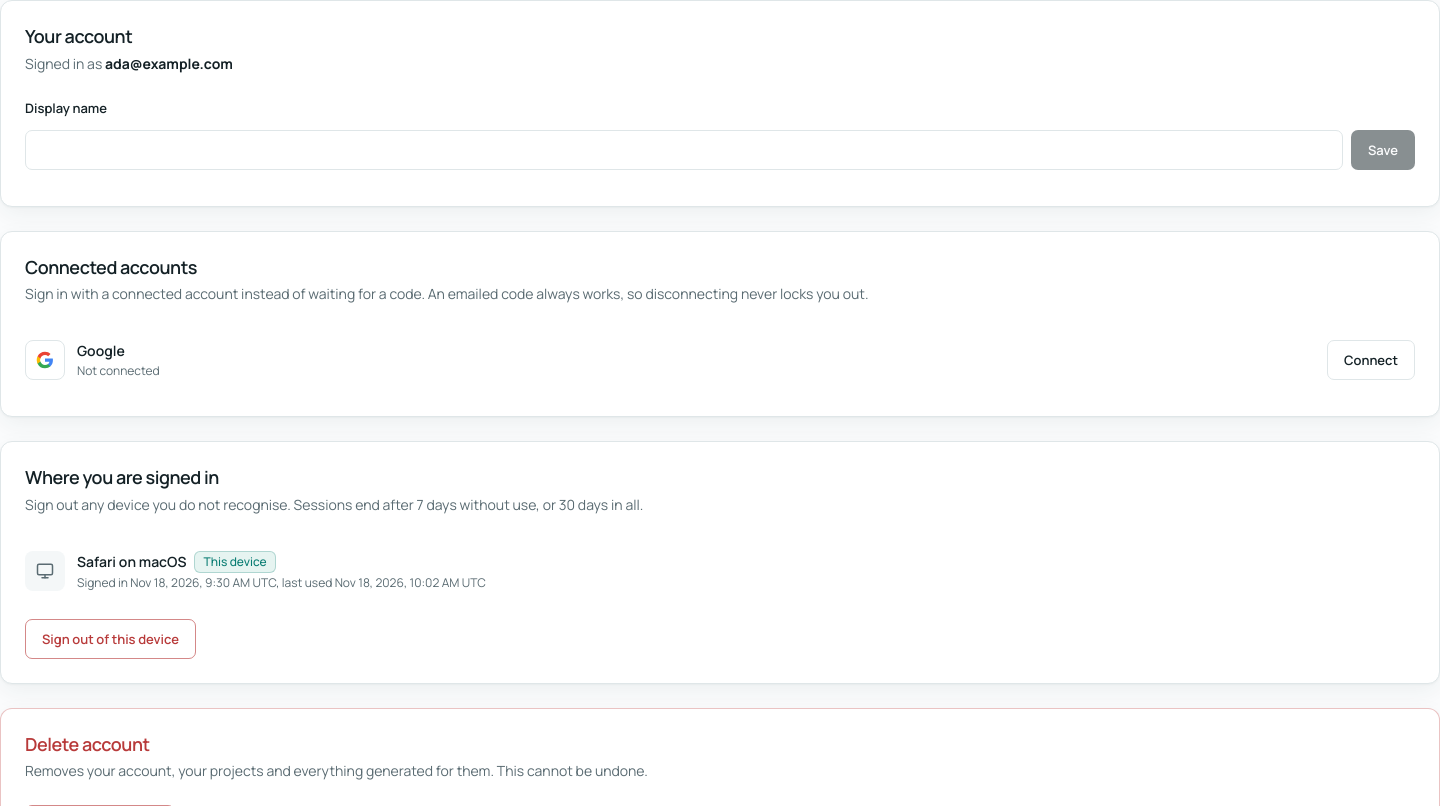
Test: AccountView: connected accounts › connects: posts with the CSRF token and leaves for the provider's URL
Click the button with aria-label "Connect Google": (1371, 360) [1327, 340, 1415, 380]
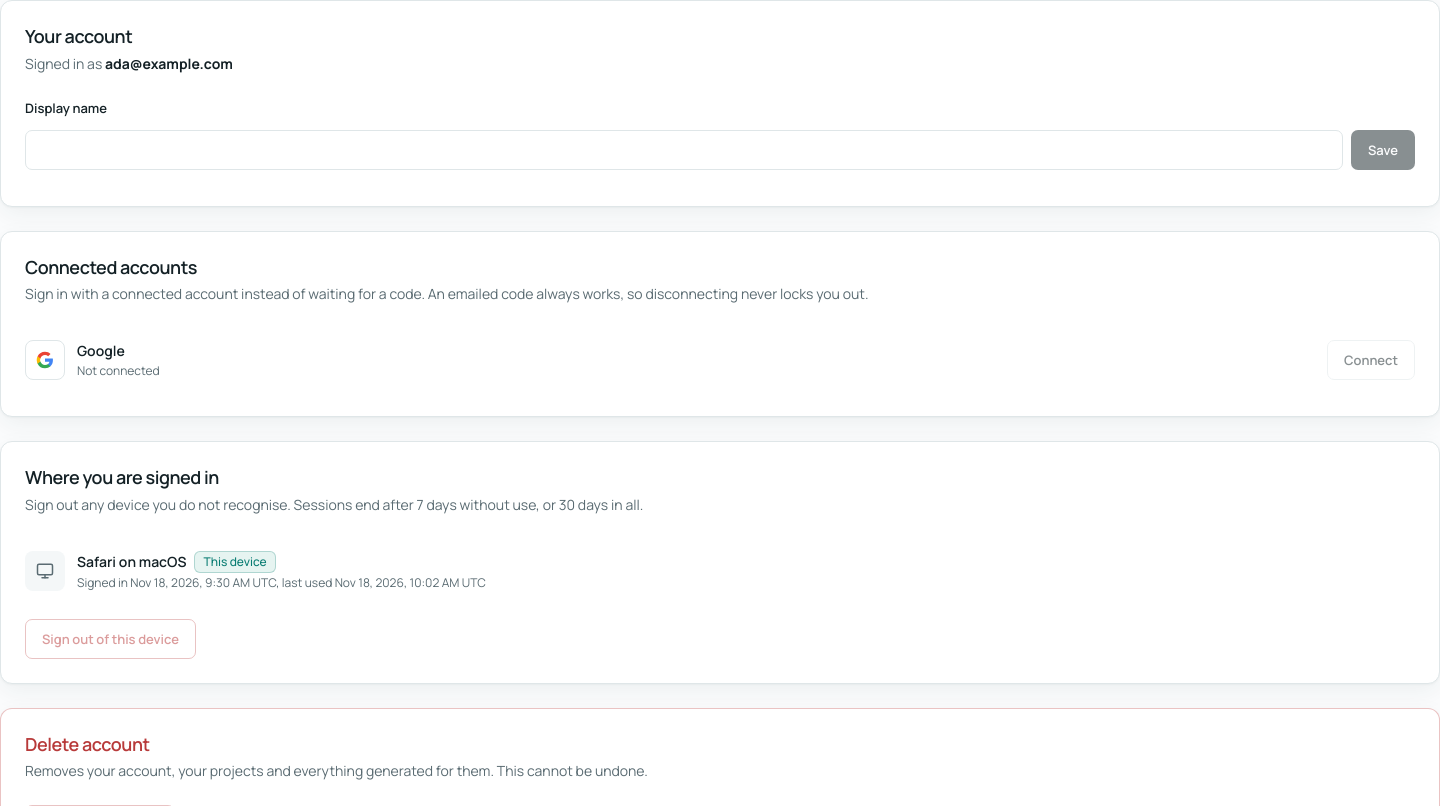
Result: the button with aria-label "Connect Google" is disabled at [1327, 340, 1415, 380]
